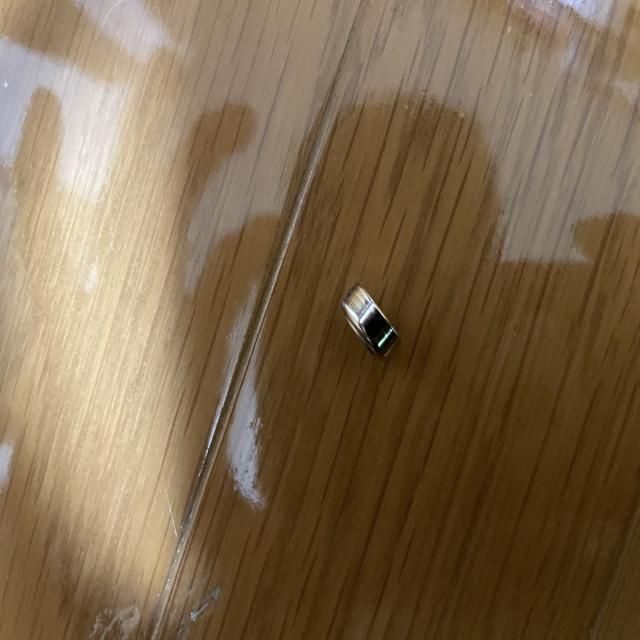COIN: (341, 280, 399, 362)
